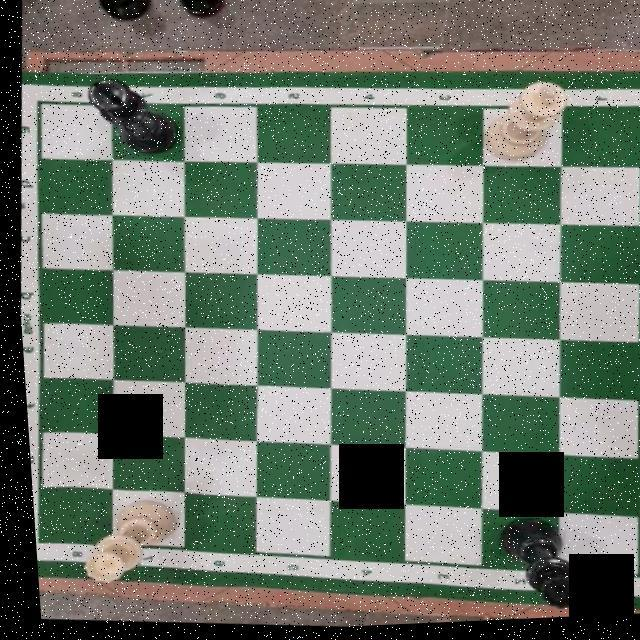chess-table-corners: (16, 77, 55, 134), (607, 561, 640, 596), (28, 518, 52, 566), (620, 92, 640, 128)
